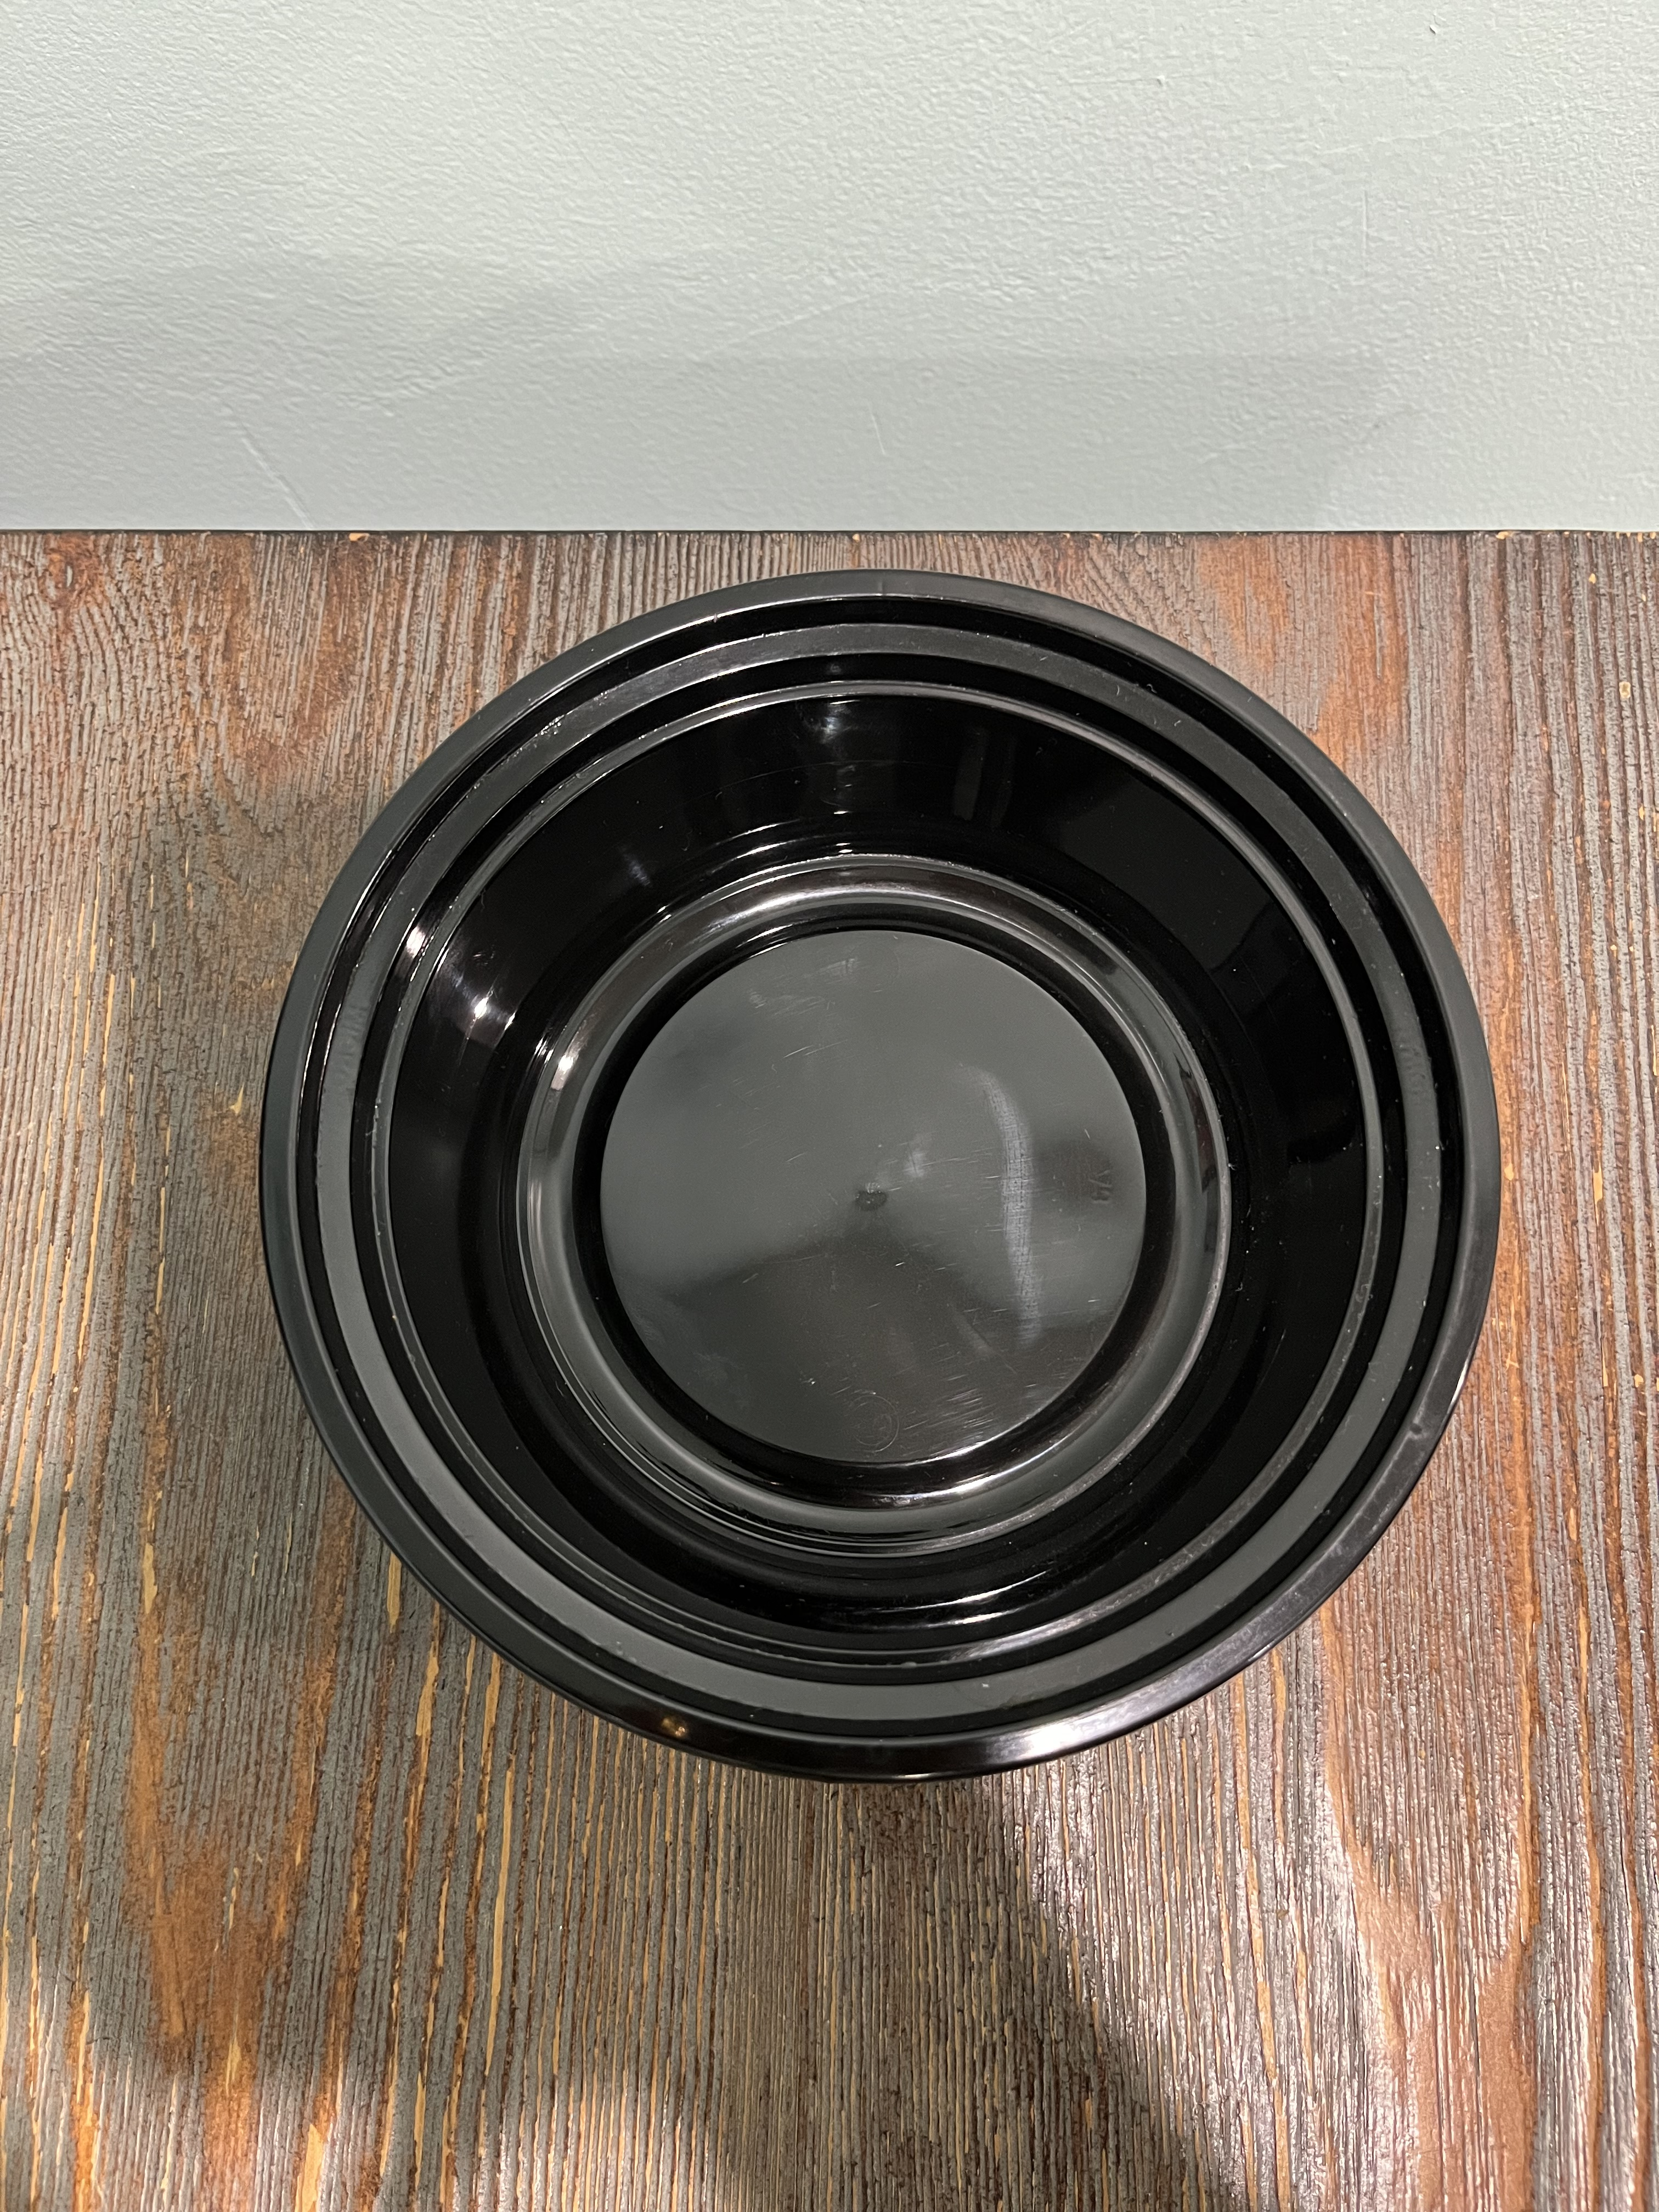plastic: (253, 564, 1518, 1806)
